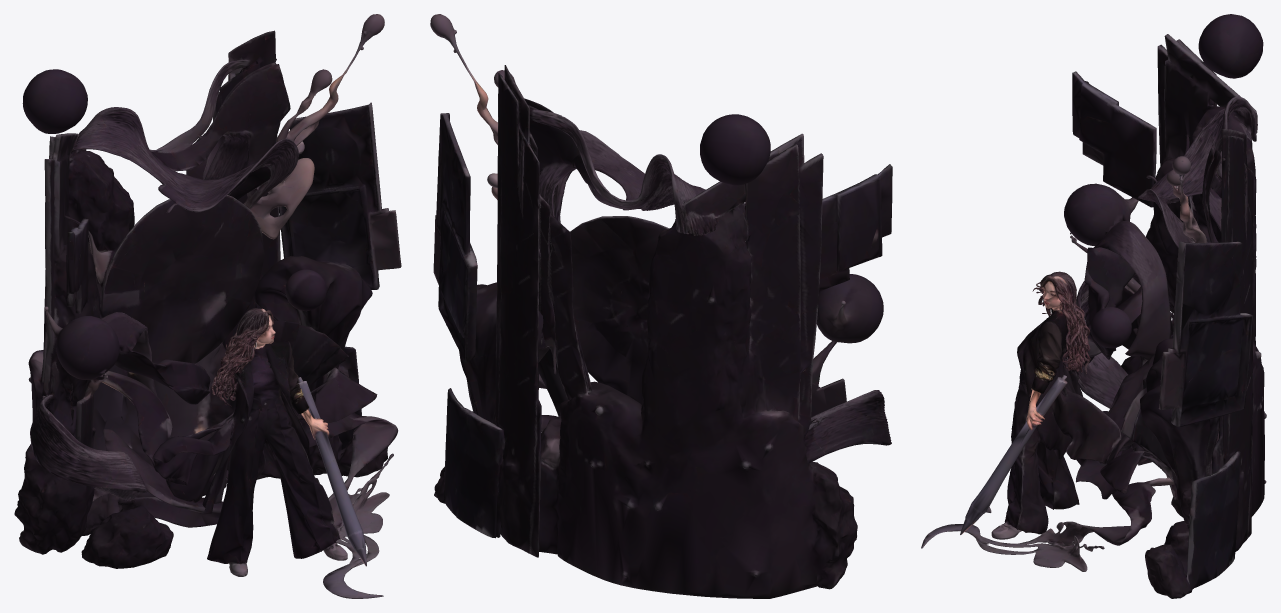
The model's file is elif-heykel-masaustu.glb.
3 views of the same model, side by side, from view 1: azimuth 30°, elevation 25°; view 2: azimuth 150°, elevation 25°; view 3: azimuth 270°, elevation 25° (orthographic). The views are drawn at different scales.
Size of the model in its own units: 1.7 by 1.9 by 1.32.
Materials: 1 (1 with a texture image).
